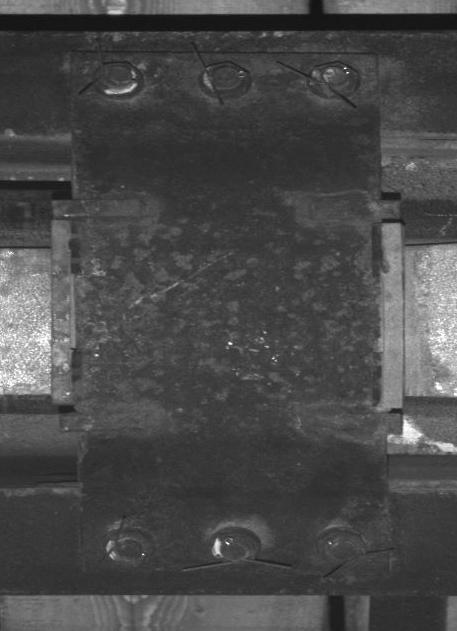Nut_f: (104, 530, 154, 567), (318, 529, 366, 563), (310, 62, 358, 96), (201, 61, 249, 93), (209, 532, 258, 563), (94, 63, 140, 96)
Screw_f: (210, 66, 240, 89), (220, 540, 249, 561), (115, 540, 143, 561), (327, 541, 357, 560), (322, 65, 348, 86), (106, 66, 133, 86)
